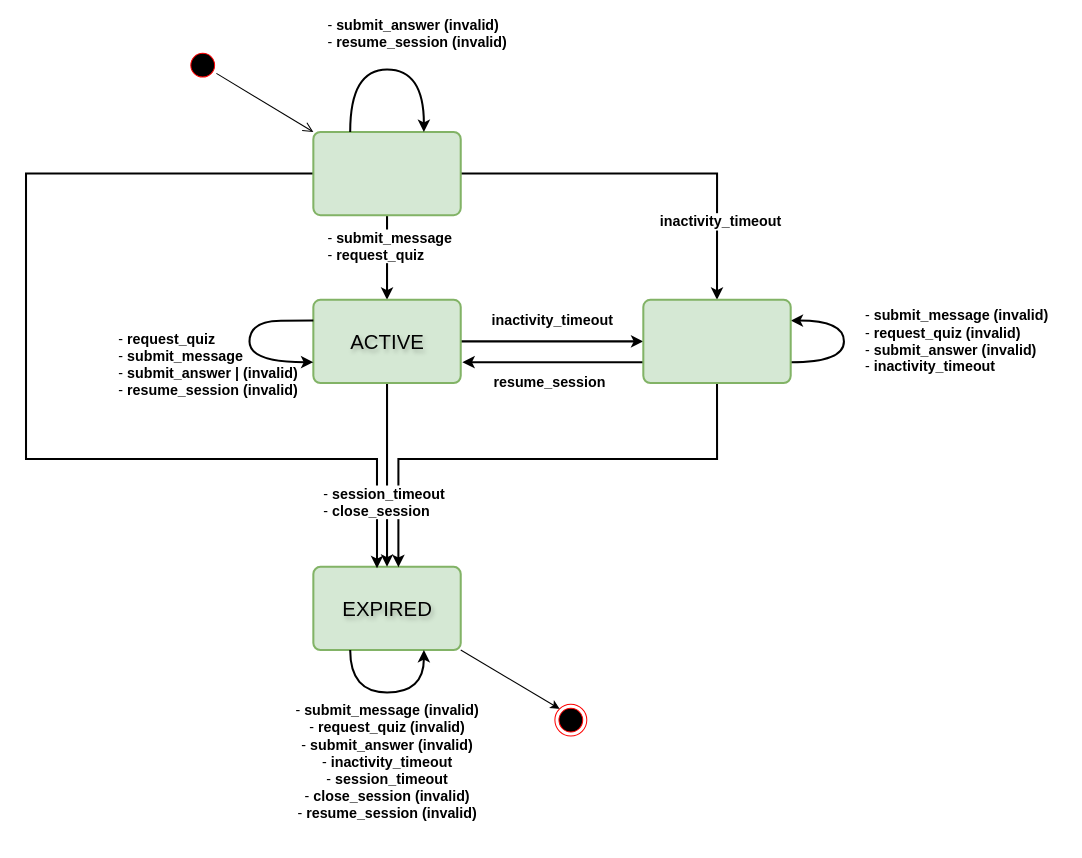
This 1082x858 diagram has some shape labels left out. The centre of each missing label's shape, as x and y in pixels:
"IDLE" belongs at (x=716, y=341).
"NEW" belongs at (x=386, y=173).
